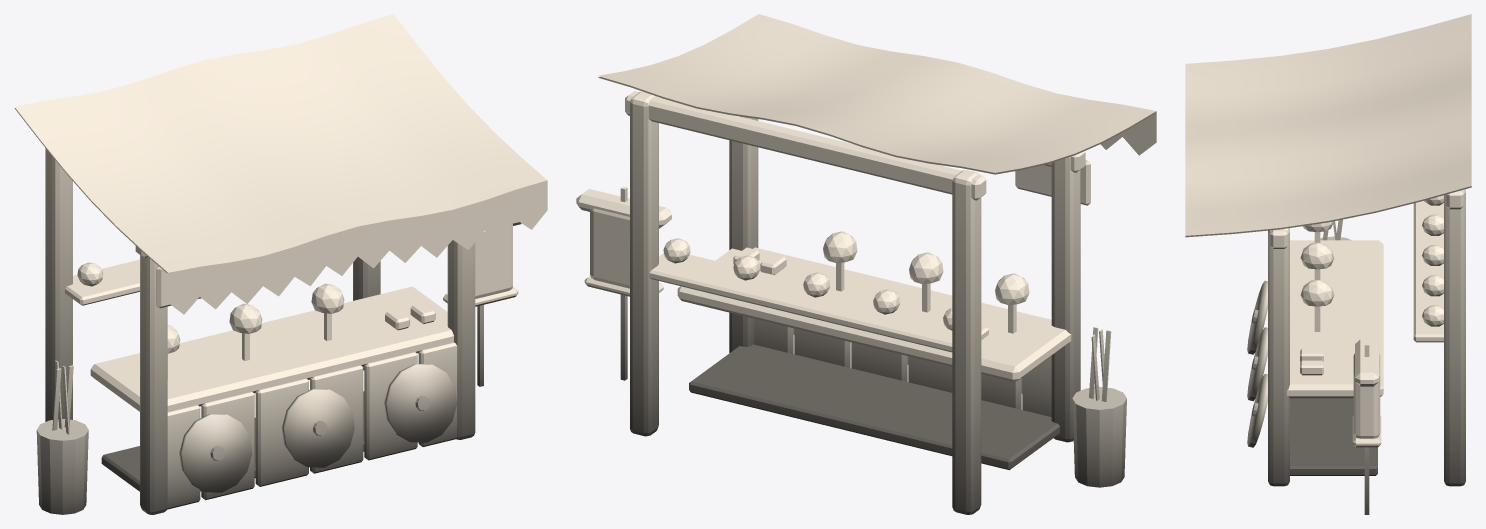
File: SM_VK_MarketStall_Armourer.fbx
3 renders of one model, left to right at view 1: azimuth 30°, elevation 25°; view 2: azimuth 150°, elevation 25°; view 3: azimuth 270°, elevation 25°, orthographic. The views are drawn at different scales.
Visible parts, largest first — view 1: SM_VK_MarketStall_Armourer.001; view 2: SM_VK_MarketStall_Armourer.001; view 3: SM_VK_MarketStall_Armourer.001.
Part boxes in pixels (<box>): SM_VK_MarketStall_Armourer.001: <box>14,14,547,514</box>; SM_VK_MarketStall_Armourer.001: <box>576,14,1156,514</box>; SM_VK_MarketStall_Armourer.001: <box>1185,14,1471,514</box>.
Bounding box in the file's own units: 4.88 × 3.15 × 2.6.
